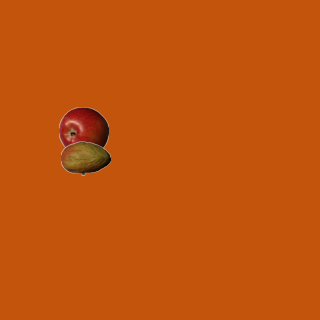Apple Braeburn: (58, 106, 108, 156)
Papaya: (60, 133, 110, 183)
